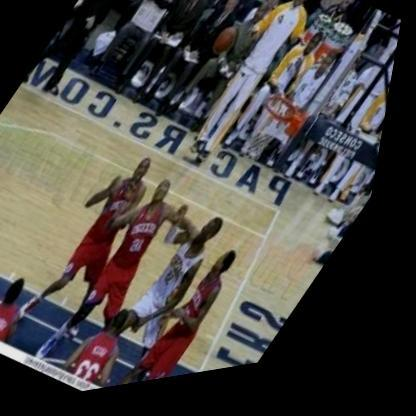basketball: (204, 25, 250, 73)
